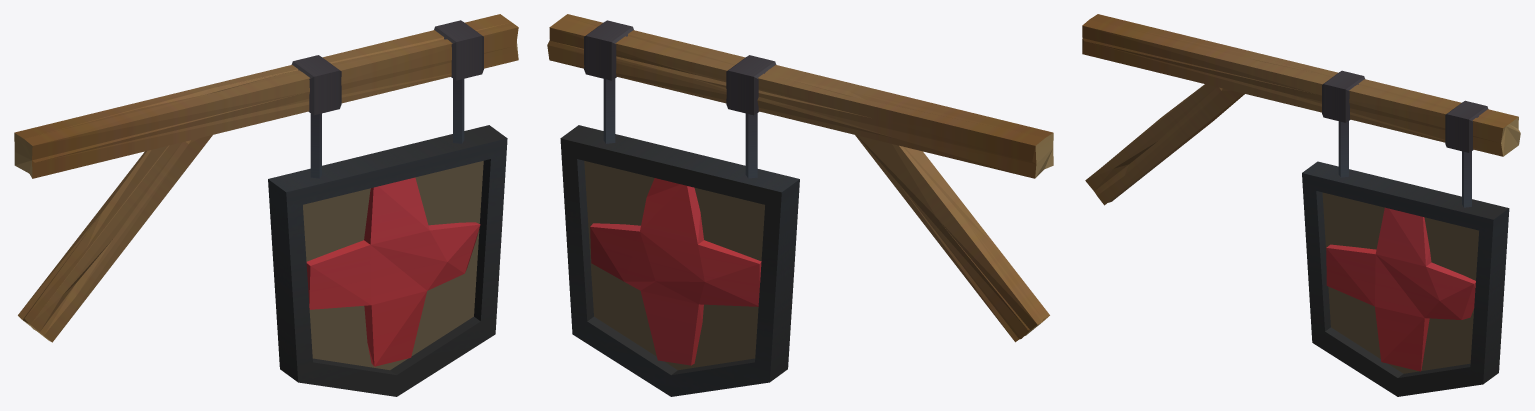
File: SignBoard_9.fbx
3 renders of one model, left to right at view 1: azimuth 30°, elevation 25°; view 2: azimuth 150°, elevation 25°; view 3: azimuth 330°, elevation 25°, orthographic. The views are drawn at different scales.
Visible parts, largest first — view 1: polySurface10667; view 2: polySurface10667; view 3: polySurface10667.
Part boxes in pixels (x1,y1,x2,y2): polySurface10667: [14, 14, 518, 396]; polySurface10667: [547, 14, 1053, 396]; polySurface10667: [1082, 14, 1520, 396].
Bounding box in the file's own units: 309 × 207 × 23.29.
